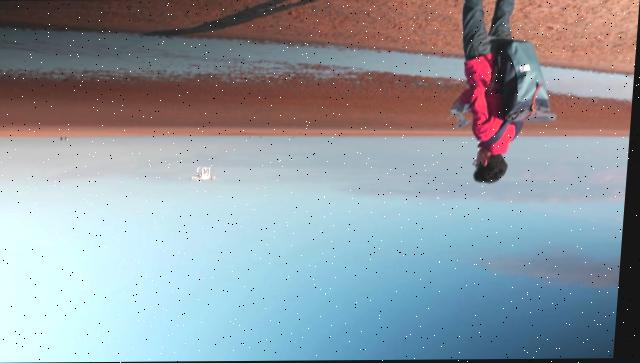drone: (192, 165, 222, 182)
